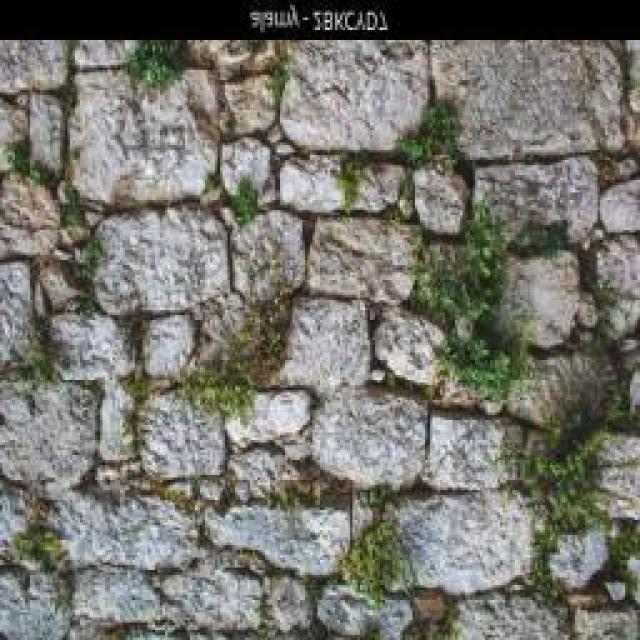crack: (96, 191, 226, 221), (465, 147, 606, 174)
vegetation: (319, 476, 637, 631), (362, 193, 526, 409), (143, 300, 299, 438), (518, 428, 624, 540), (334, 505, 417, 603), (4, 290, 78, 391), (243, 463, 349, 515), (394, 98, 466, 172), (127, 473, 227, 521), (325, 149, 394, 217), (113, 363, 165, 453), (119, 39, 187, 93), (3, 135, 61, 198), (8, 526, 71, 576), (508, 215, 573, 258), (72, 231, 110, 298), (260, 53, 298, 117), (589, 146, 634, 192), (56, 180, 91, 235)
